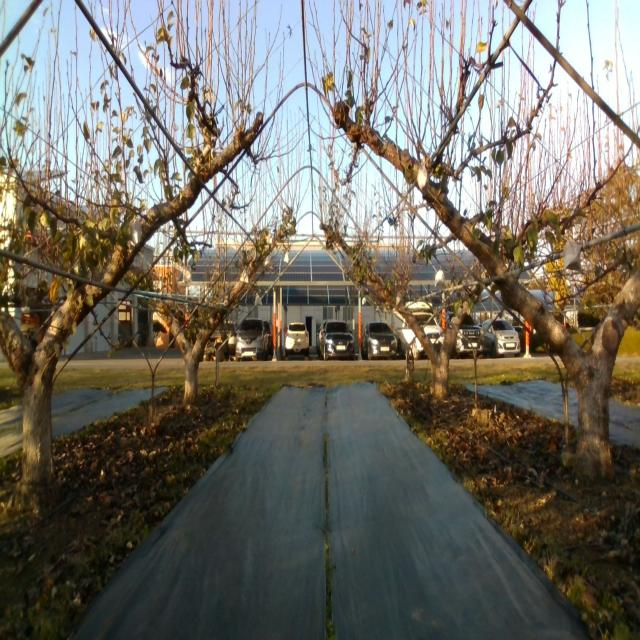pearbags: (563, 242, 582, 271), (434, 270, 446, 288)
